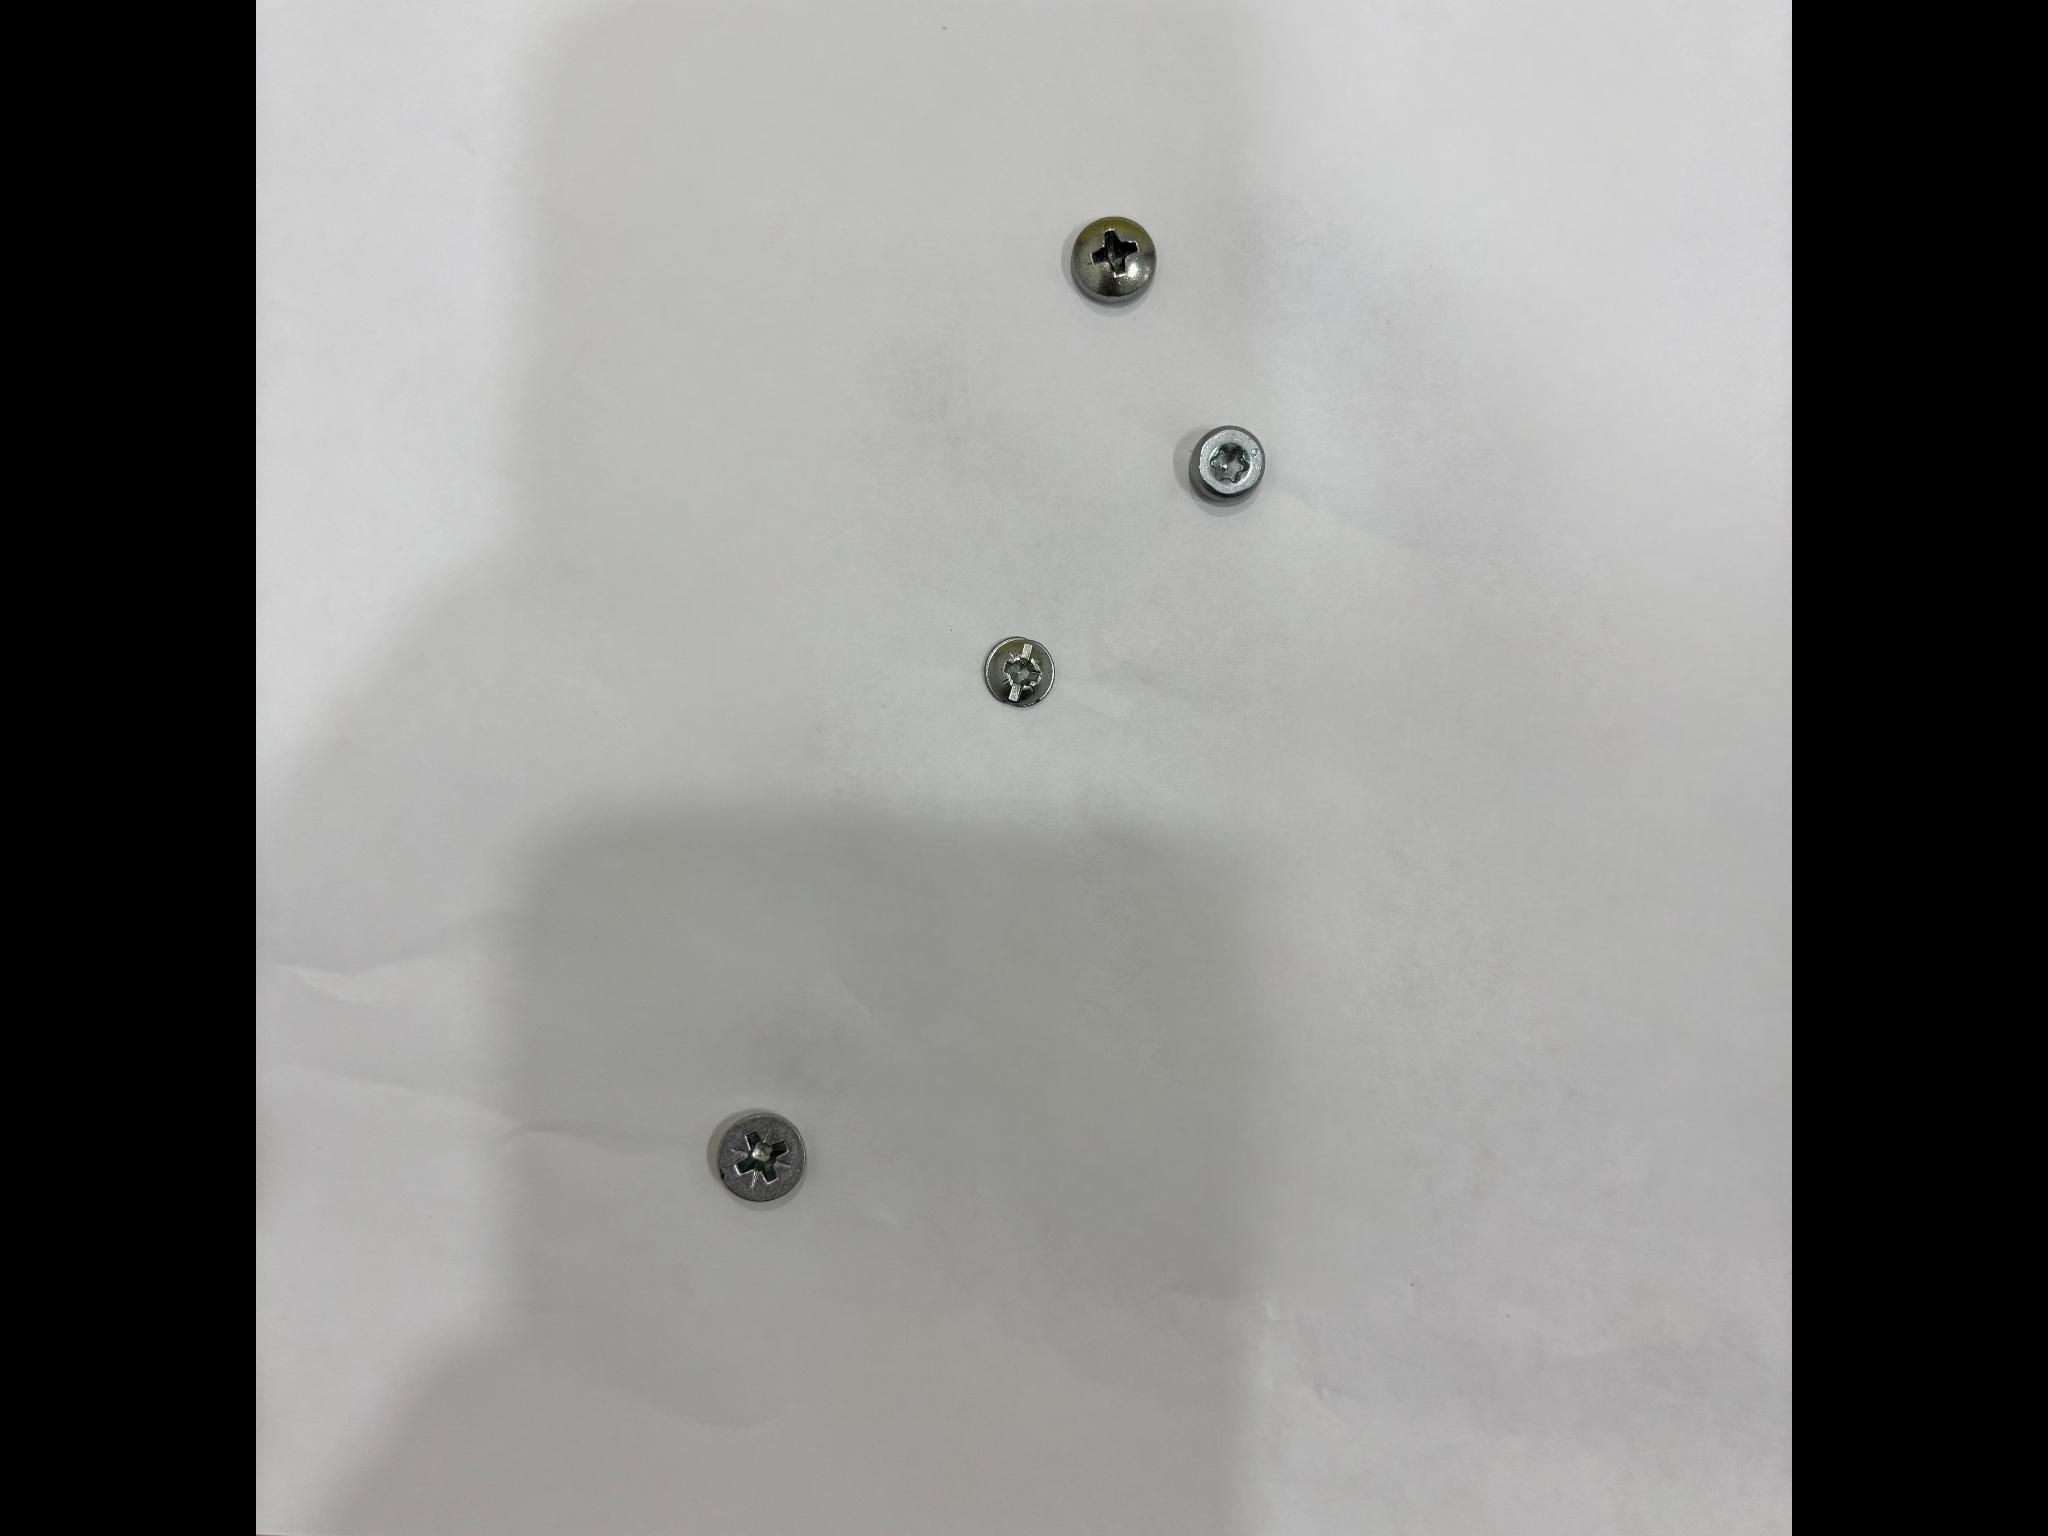PH: (1069, 215, 1156, 302)
PZ: (718, 1113, 805, 1200), (985, 636, 1055, 707)
T: (1190, 426, 1264, 499)
